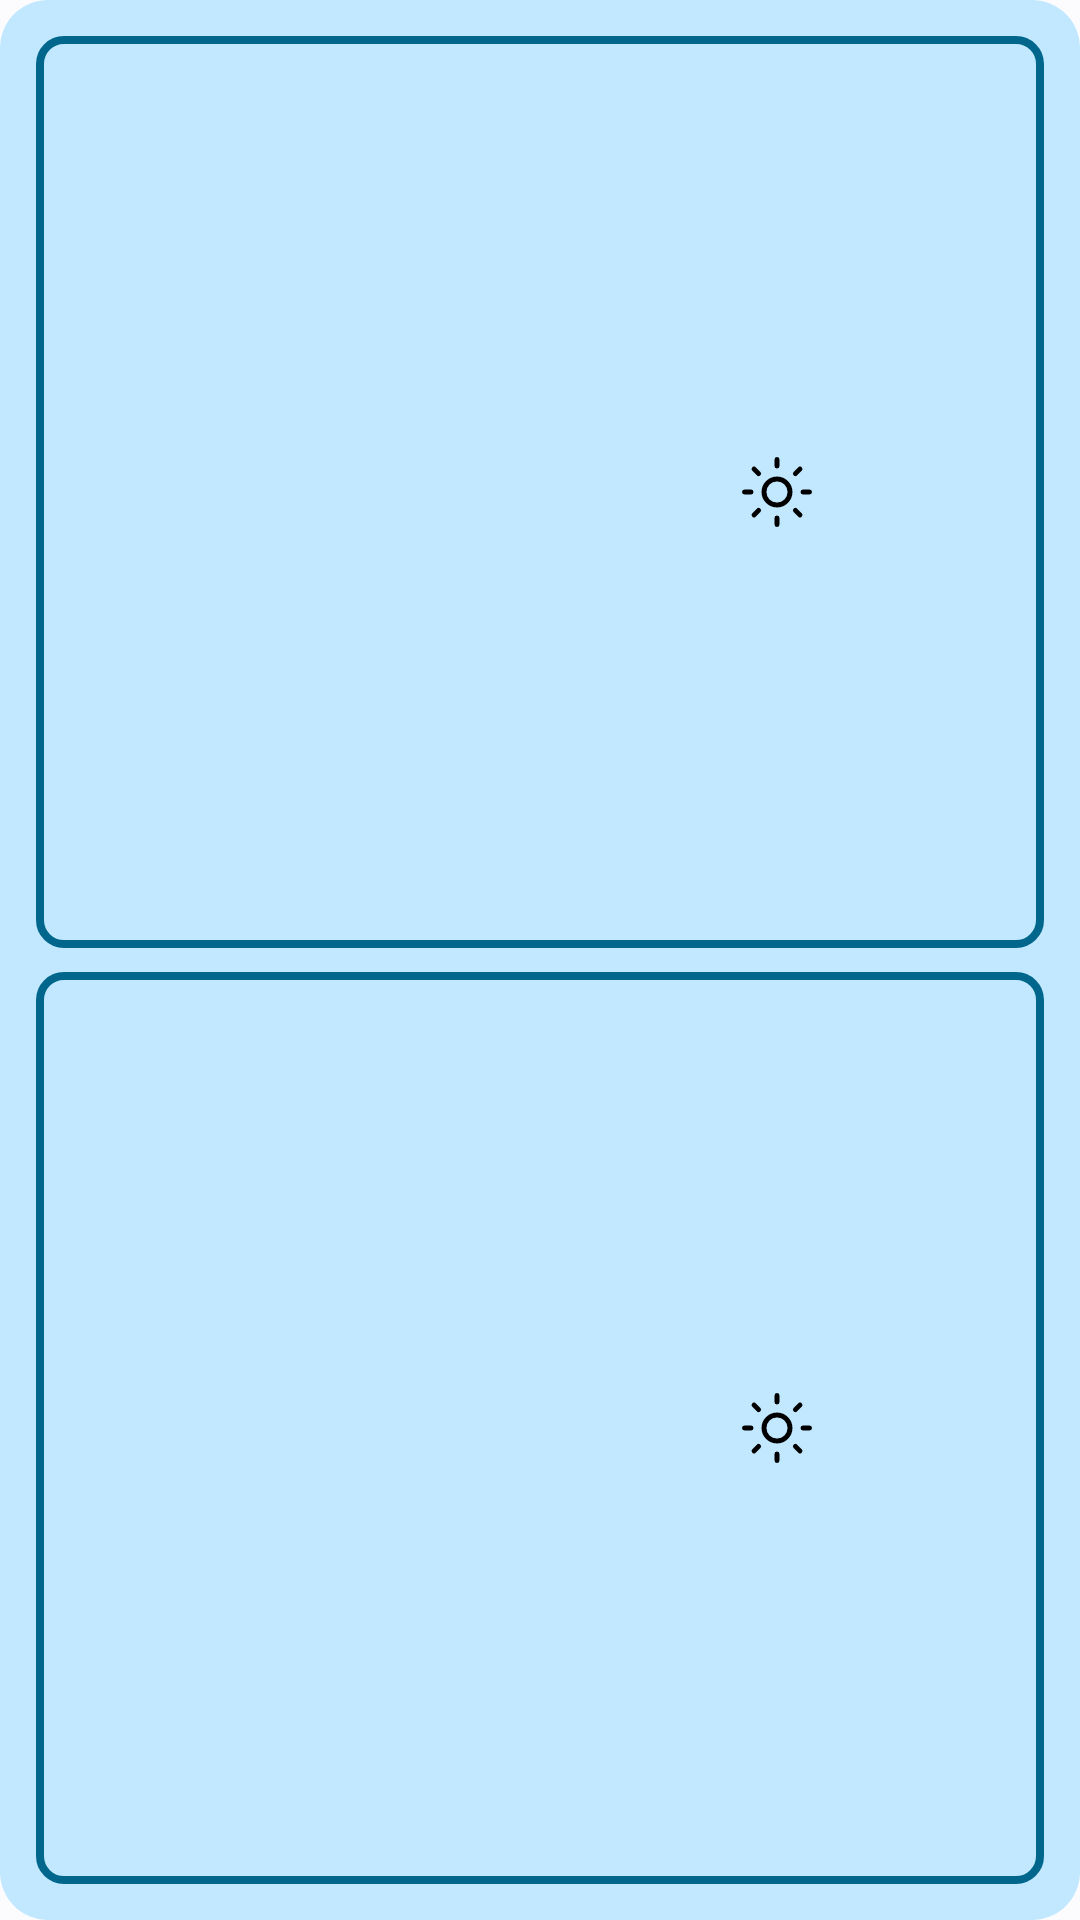

Point at icon controls on the screen. Image size 1080px×1920px, points as point (x, y).
sun: point (777, 492), point (777, 1428)
